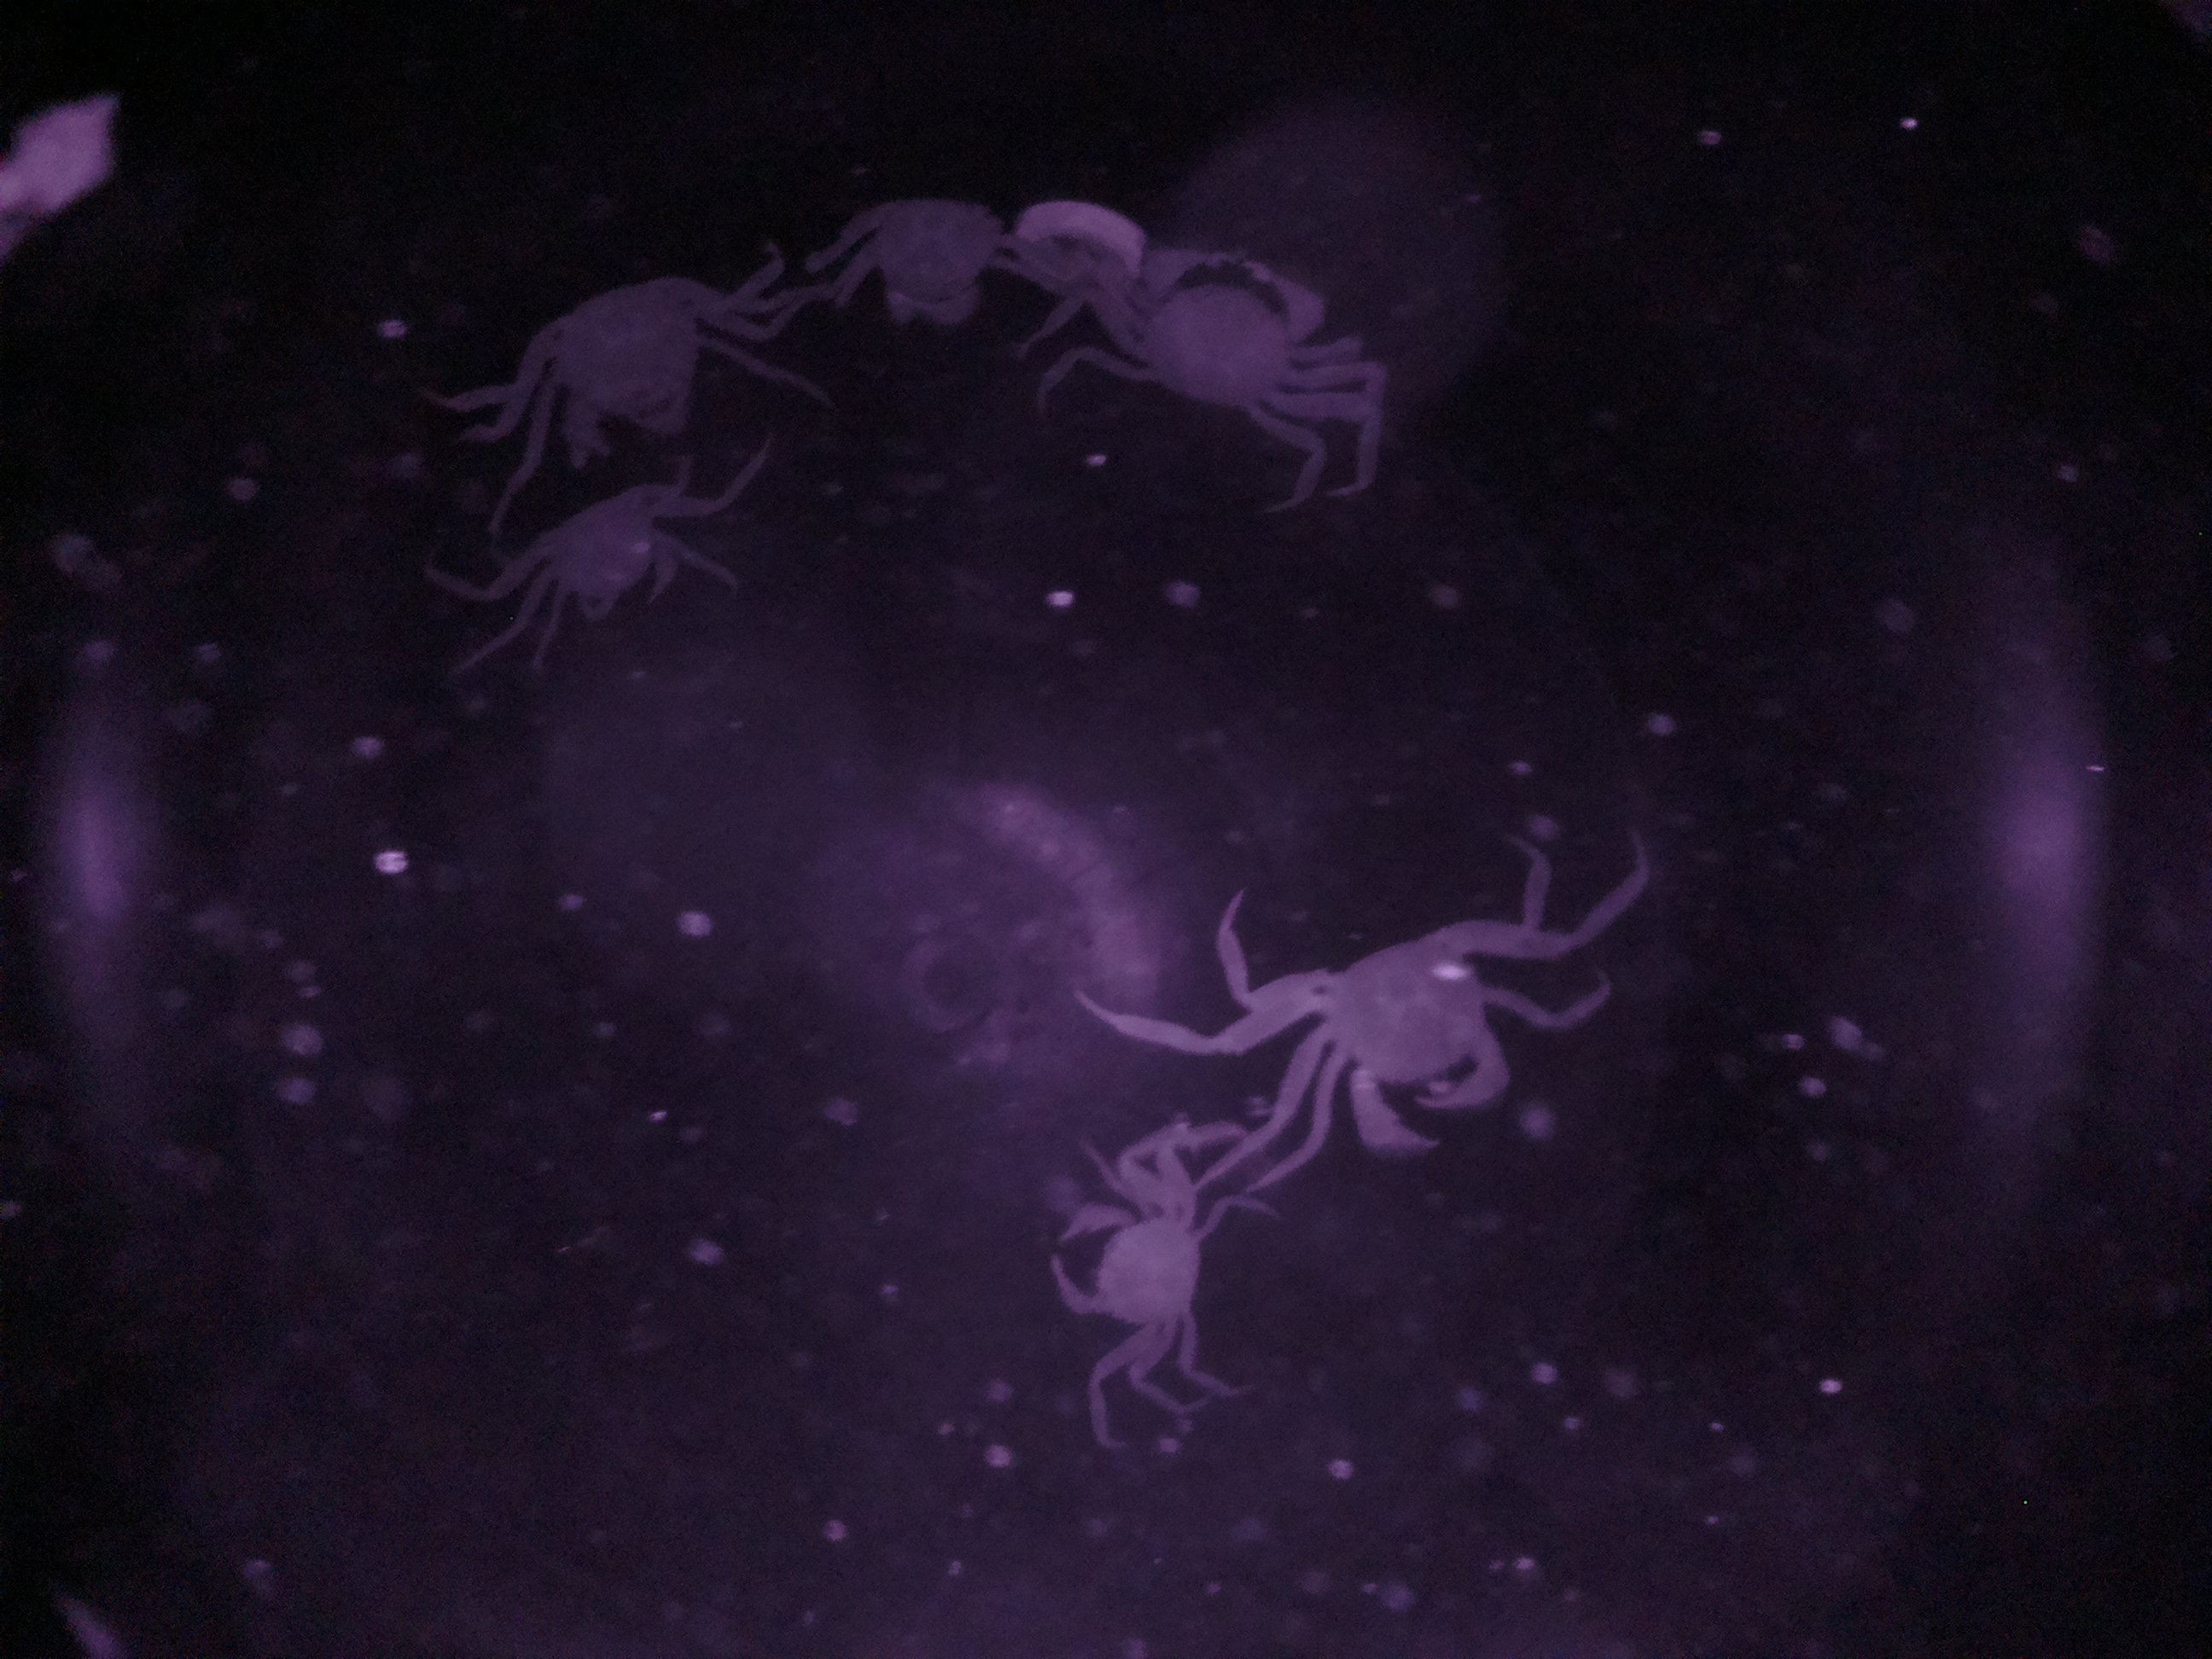Crab: (1261, 897, 1536, 1166), (1090, 237, 1343, 453), (1036, 1150, 1231, 1371), (475, 457, 711, 638)
